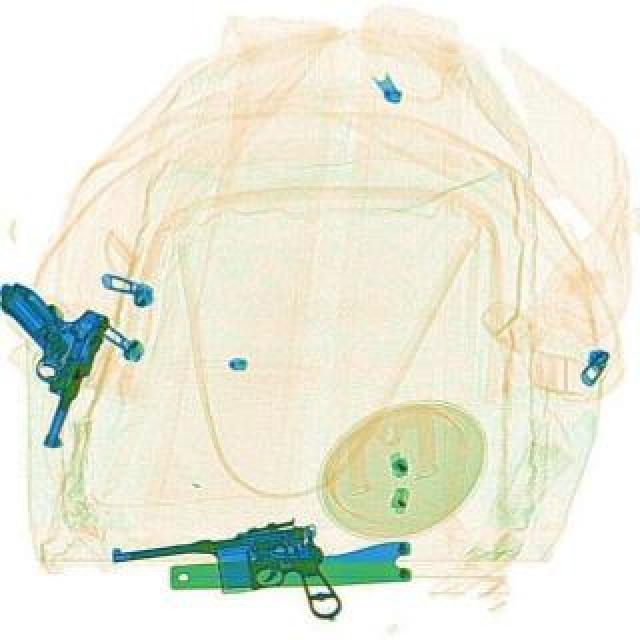gun: (112, 514, 340, 638), (0, 280, 104, 448)
